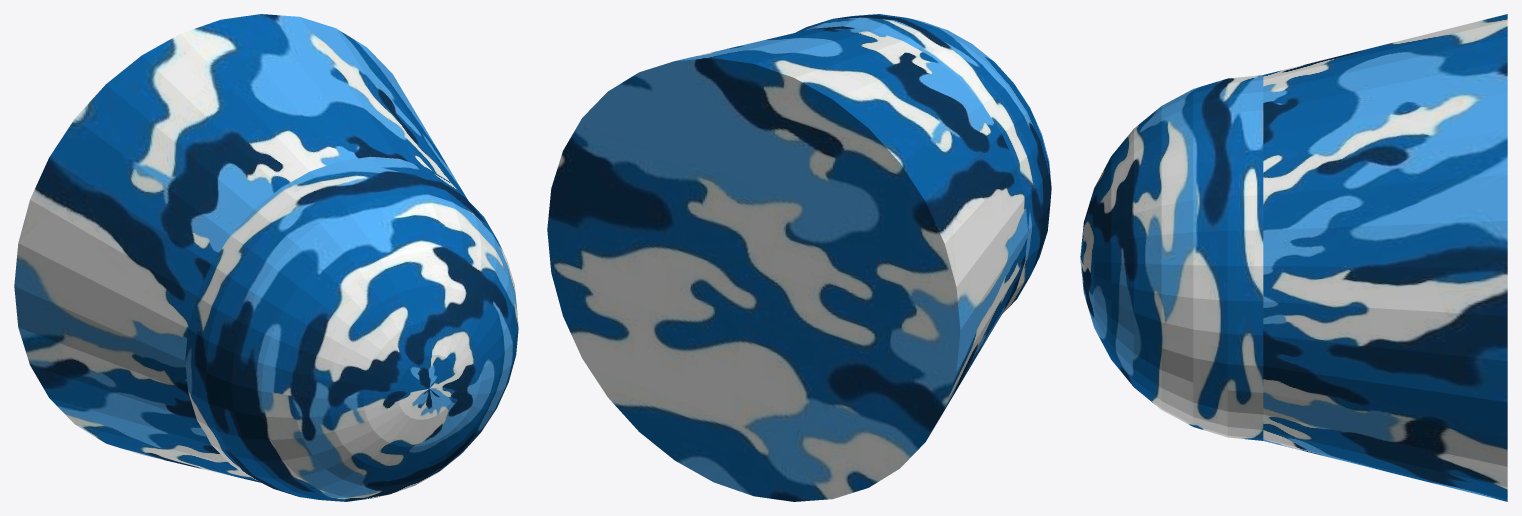
Rendered from TurretBase.obj.
The picture shows the model from 3 angles, left to right: view 1: azimuth 30°, elevation 25°; view 2: azimuth 150°, elevation 25°; view 3: azimuth 270°, elevation 25°; orthographic projection. The views are drawn at different scales.
Visible parts, largest first — view 1: Turret_Base_Circle; view 2: Turret_Base_Circle; view 3: Turret_Base_Circle.
Boxes of the visible parts, x1,y1,x2,y2 form: Turret_Base_Circle: [14, 14, 518, 501]; Turret_Base_Circle: [547, 14, 1051, 501]; Turret_Base_Circle: [1080, 14, 1507, 501].
Size of the model in its own units: 1 by 1 by 0.875.
1 material, 1 textured.
